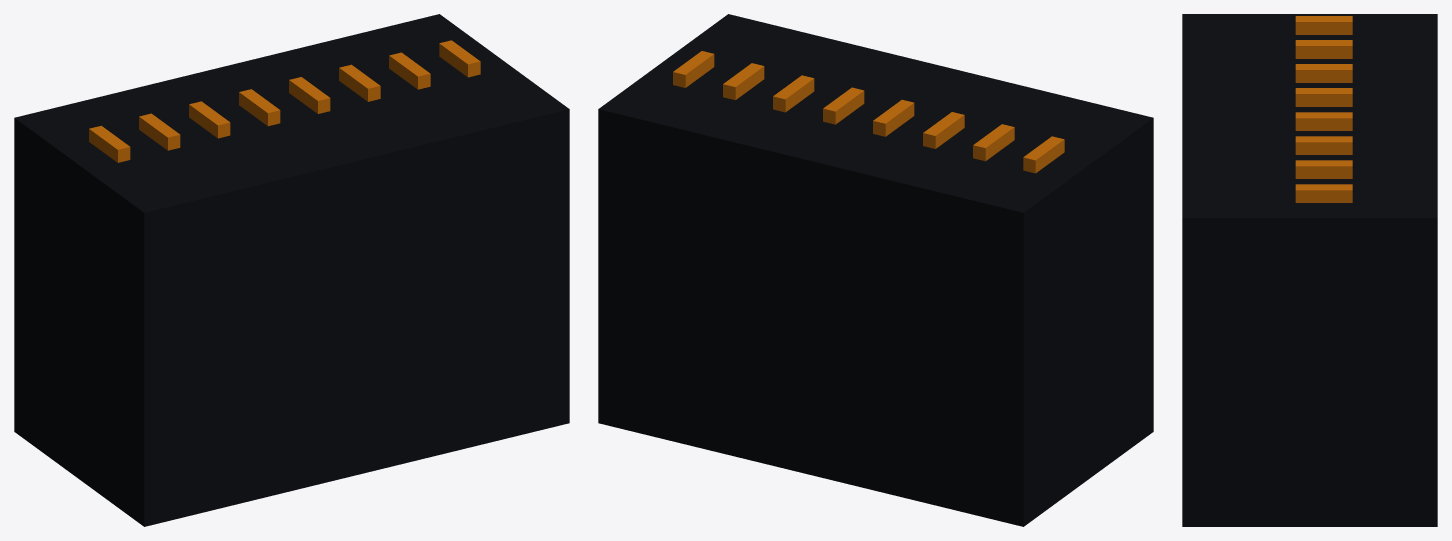
The model's file is 090_L106_CONNECTOR2.obj.
3 renders of one model, left to right at view 1: azimuth 30°, elevation 25°; view 2: azimuth 150°, elevation 25°; view 3: azimuth 270°, elevation 25°, orthographic.
Parts seen in each view (by area): view 1: PLASTIC, GOLD; view 2: PLASTIC, GOLD; view 3: PLASTIC, GOLD.
Part boxes in pixels (left/top/right/bottom): PLASTIC: left=14, top=14, right=569, bottom=526; GOLD: left=89, top=40, right=480, bottom=162; PLASTIC: left=598, top=14, right=1153, bottom=526; GOLD: left=673, top=51, right=1064, bottom=173; PLASTIC: left=1182, top=14, right=1437, bottom=526; GOLD: left=1295, top=16, right=1352, bottom=202.
Size of the model in its own units: 0.017 by 0.013 by 0.009.
